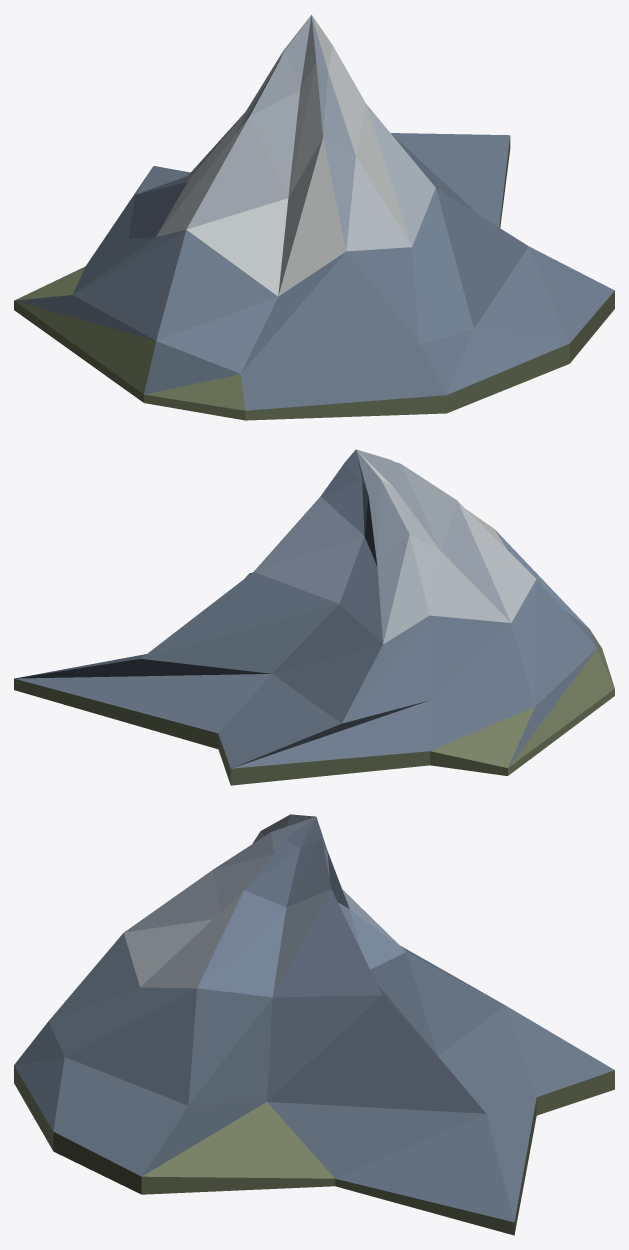
File: massif_west_summit.glb
3 views of the same model, one above another, from view 1: azimuth 30°, elevation 25°; view 2: azimuth 150°, elevation 25°; view 3: azimuth 270°, elevation 25° (orthographic). The views are drawn at different scales.
Visible parts, largest first — view 1: massif_west_summit; view 2: massif_west_summit; view 3: massif_west_summit.
Part boxes in pixels (x1,y1,x2,y2): massif_west_summit: [14, 14, 614, 420]; massif_west_summit: [14, 449, 614, 785]; massif_west_summit: [14, 814, 614, 1235].
Size of the model in its own units: 804 by 402 by 795.
